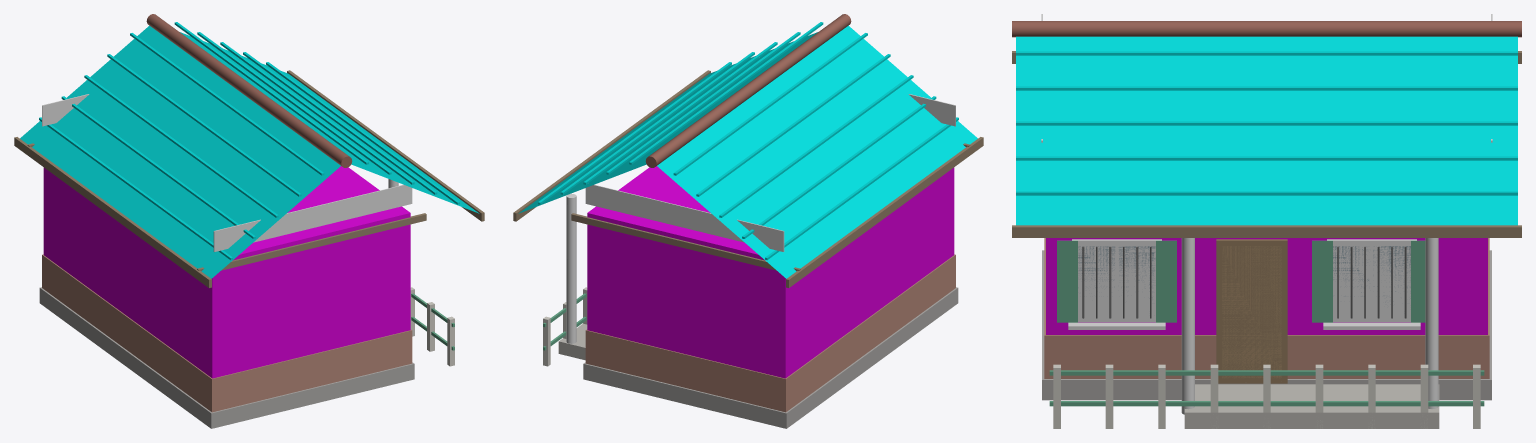
File: rumah.glb
3 renders of one model, left to right at view 1: azimuth 30°, elevation 25°; view 2: azimuth 150°, elevation 25°; view 3: azimuth 270°, elevation 25°, orthographic. The views are drawn at different scales.
Visible parts, largest first — view 1: main; view 2: main; view 3: main.
Part boxes in pixels (x1,y1,x2,y2): main: [14, 14, 484, 428]; main: [513, 14, 983, 428]; main: [1012, 14, 1521, 428].
Size of the model in its own units: 5.56 by 4.83 by 6.8.
